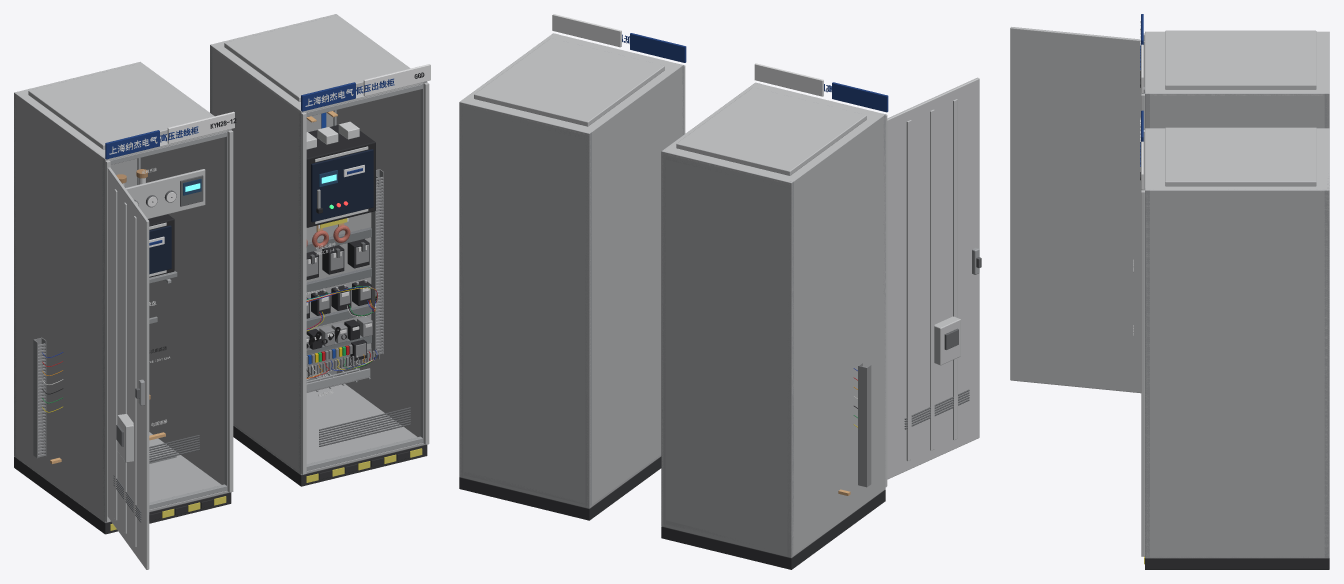
Rendered from nja-cabinet.glb.
3 renders of one model, left to right at view 1: azimuth 30°, elevation 25°; view 2: azimuth 150°, elevation 25°; view 3: azimuth 270°, elevation 25°, orthographic. The views are drawn at different scales.
Visible parts, largest first — view 1: hv_sideL, lv_sideL, hv_sideR, lv_sideR, hv_door, hv_topcap, lv_topcap, lv_bot, acb_face, hv_bot, lv_doorFrame, hv_doorFrame.001 (+36 smaller); view 2: lv_back, hv_back, hv_sideL, lv_sideL, hv_door, lv_topcap, hv_topcap, hv_top, lv_top, hv_drib-0.18, lv_post.001, hv_drib0.0 (+16 smaller); view 3: lv_sideR, hv_door, lv_topcap, hv_topcap, hv_sideR, hv_top, lv_top, lv_baseR, lv_post.003, lv_post.002, lv_doorFrame.001.
Boxes of the visible parts, <box> form: hv_sideL: <box>14,93,106,522</box>; lv_sideL: <box>211,46,300,473</box>; hv_sideR: <box>140,67,224,484</box>; lv_sideR: <box>336,15,420,436</box>; hv_door: <box>107,167,149,569</box>; hv_topcap: <box>28,64,210,149</box>; lv_topcap: <box>224,16,406,101</box>; lv_bot: <box>233,384,424,474</box>; acb_face: <box>311,149,373,222</box>; hv_bot: <box>15,432,228,522</box>; lv_doorFrame: <box>301,112,306,474</box>; hv_doorFrame.001: <box>228,130,233,492</box>; lv_back: <box>459,102,590,508</box>; hv_back: <box>661,151,792,557</box>; hv_sideL: <box>790,115,885,555</box>; lv_sideL: <box>587,65,683,506</box>; hv_door: <box>887,77,979,479</box>; lv_topcap: <box>474,38,664,126</box>; hv_topcap: <box>676,87,866,175</box>; hv_top: <box>662,82,884,184</box>; lv_top: <box>460,33,682,135</box>; hv_drib-0.18: <box>906,120,911,460</box>; lv_post.001: <box>585,132,591,508</box>; hv_drib0.0: <box>930,109,934,450</box>; lv_sideR: <box>1145,189,1329,558</box>; hv_door: <box>1010,27,1144,393</box>; lv_topcap: <box>1165,127,1316,186</box>; hv_topcap: <box>1165,30,1316,89</box>; hv_sideR: <box>1145,93,1326,128</box>; hv_top: <box>1145,31,1329,95</box>; lv_top: <box>1145,128,1329,191</box>; lv_baseR: <box>1145,558,1329,569</box>; lv_post.003: <box>1324,190,1329,558</box>; lv_post.002: <box>1145,188,1149,557</box>; lv_doorFrame.001: <box>1141,190,1144,556</box>.
Bounding box in the file's own units: 2.25 × 2.37 × 1.73.
